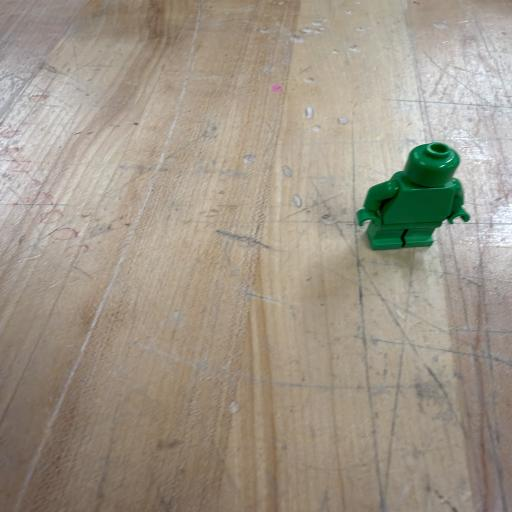Green-Lego: (357, 143, 470, 250)
